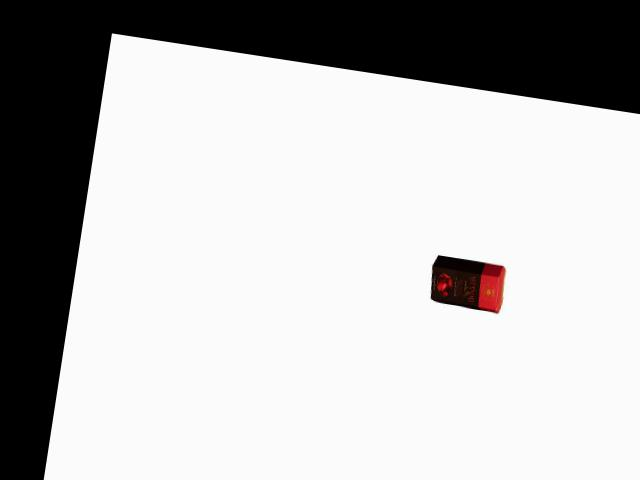chocolate: (420, 251, 510, 314)
